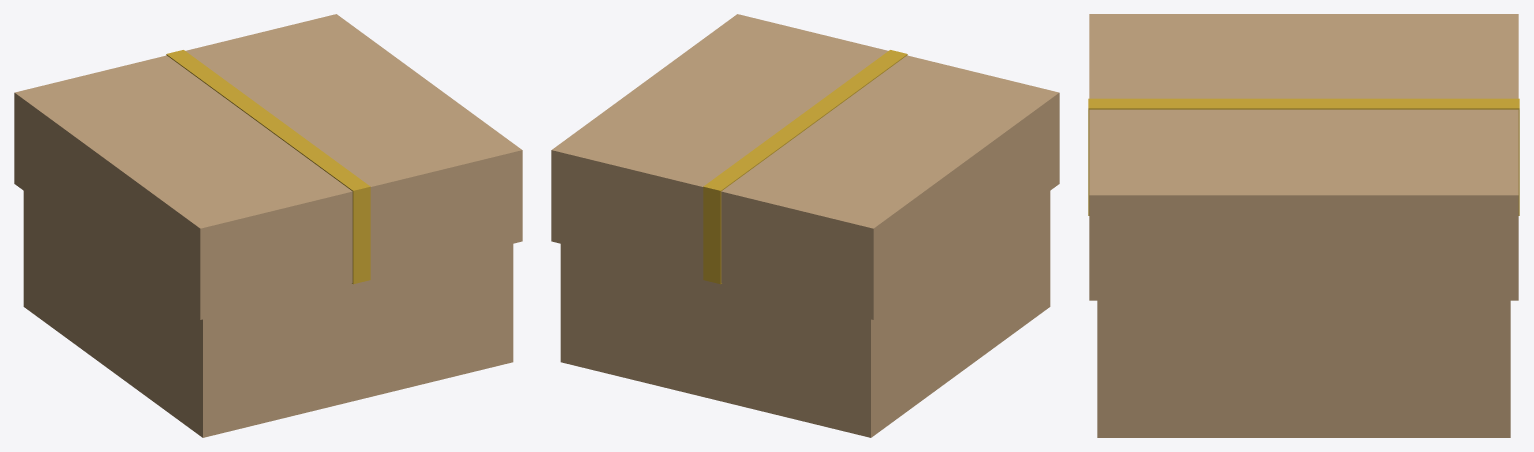
File: GiftBox.glb
The picture shows the model from 3 angles, left to right: view 1: azimuth 30°, elevation 25°; view 2: azimuth 150°, elevation 25°; view 3: azimuth 270°, elevation 25°; orthographic projection. The views are drawn at different scales.
Visible parts, largest first — view 1: GiftBoxLid, GiftBoxBase, GiftBoxLidGroup; view 2: GiftBoxLid, GiftBoxBase, GiftBoxLidGroup; view 3: GiftBoxLid, GiftBoxBase, GiftBoxLidGroup.
Part boxes in pixels (<box>): GiftBoxLid: <box>14,14,522,319</box>; GiftBoxBase: <box>23,191,513,437</box>; GiftBoxLidGroup: <box>166,50,370,284</box>; GiftBoxLid: <box>551,14,1059,319</box>; GiftBoxBase: <box>560,191,1050,437</box>; GiftBoxLidGroup: <box>703,50,907,284</box>; GiftBoxLid: <box>1089,14,1518,300</box>; GiftBoxBase: <box>1097,300,1510,437</box>; GiftBoxLidGroup: <box>1088,98,1519,215</box>.
Size of the model in its own units: 3.32 by 2.11 by 3.34.
